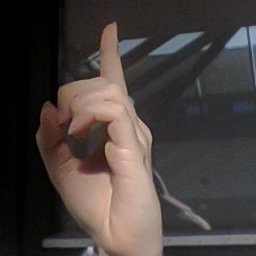D: (34, 19, 172, 245)
